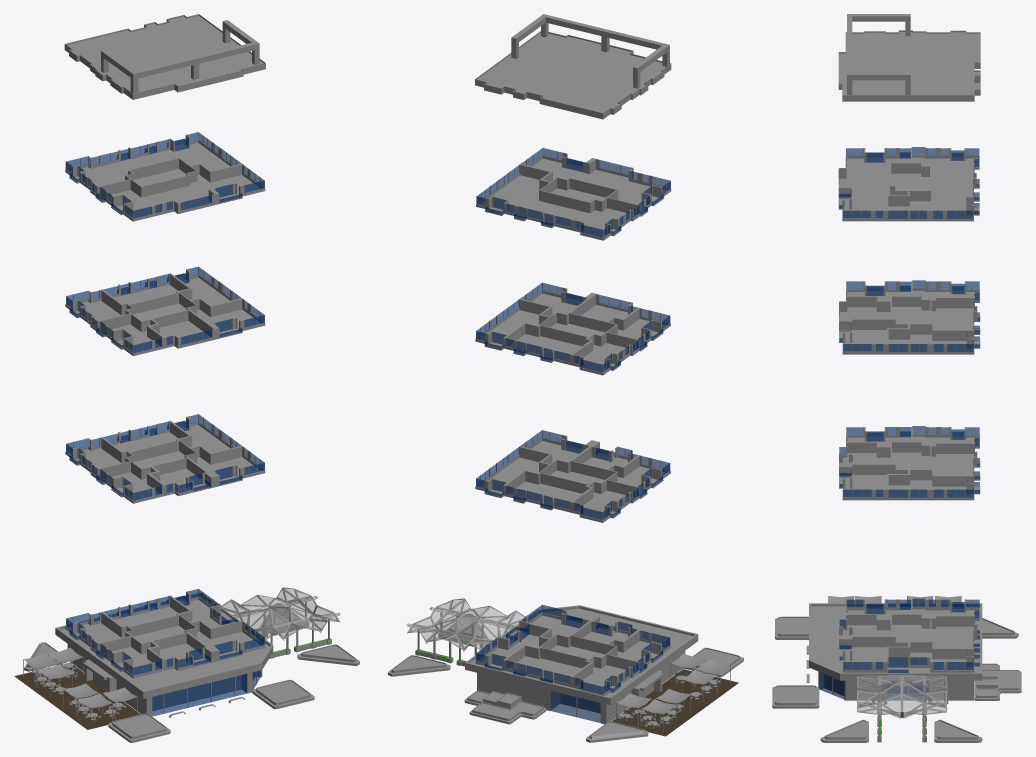
3 renders of one model, left to right at view 1: azimuth 30°, elevation 25°; view 2: azimuth 150°, elevation 25°; view 3: azimuth 270°, elevation 25°, orthographic.
Visible parts, largest first — view 1: ROOF, Lobby, Apt_A_ph, Apt_B_ph, Main_Enter, Grass_box, Wood, Canopy, Apt_A_2_29, Apt_A_30_32, Apt_C_2_29, Apt_C_33_34 (+15 smaller); view 2: ROOF, Lobby, Apt_B_ph, Grass_box, Apt_A_ph, Main_Enter, Wood, Apt_C_33_34, Apt_C_30_32, Apt_C_2_29, Canopy, Apt_D_30_32 (+15 smaller); view 3: ROOF, Lobby, Apt_B_ph, Grass_box, Apt_A_ph, Main_Enter, Apt_B_30_32, Apt_B_33_34, Apt_B_2_29, Apt_A_30_32, Apt_A_2_29, Apt_A_33_34 (+17 smaller).
Part boxes in pixels (left/top/right/bottom): ROOF: left=64, top=14, right=265, bottom=99; Lobby: left=55, top=592, right=273, bottom=716; Apt_A_ph: left=95, top=163, right=265, bottom=221; Apt_B_ph: left=65, top=132, right=241, bottom=196; Main_Enter: left=221, top=587, right=340, bottom=658; Grass_box: left=24, top=602, right=359, bottom=742; Wood: left=14, top=662, right=140, bottom=729; Canopy: left=23, top=647, right=137, bottom=726; Apt_A_2_29: left=184, top=620, right=265, bottom=662; Apt_A_30_32: left=184, top=446, right=265, bottom=487; Apt_C_2_29: left=102, top=595, right=190, bottom=636; Apt_C_33_34: left=102, top=273, right=190, bottom=314; ROOF: left=475, top=14, right=671, bottom=119; Lobby: left=465, top=605, right=698, bottom=724; Apt_B_ph: left=476, top=164, right=640, bottom=240; Grass_box: left=388, top=613, right=743, bottom=742; Apt_A_ph: left=520, top=148, right=671, bottom=216; Main_Enter: left=406, top=598, right=525, bottom=666; Wood: left=612, top=669, right=738, bottom=736; Apt_C_33_34: left=504, top=323, right=591, bottom=365; Apt_C_30_32: left=504, top=470, right=591, bottom=512; Apt_C_2_29: left=504, top=645, right=591, bottom=687; Canopy: left=616, top=653, right=730, bottom=732; Apt_D_30_32: left=571, top=479, right=639, bottom=522; ROOF: left=838, top=14, right=980, bottom=101; Lobby: left=809, top=603, right=982, bottom=704; Apt_B_ph: left=887, top=147, right=979, bottom=221; Grass_box: left=772, top=616, right=1021, bottom=742; Apt_A_ph: left=838, top=148, right=911, bottom=221; Main_Enter: left=857, top=675, right=947, bottom=742; Apt_B_30_32: left=887, top=469, right=980, bottom=500; Apt_B_33_34: left=887, top=324, right=980, bottom=354; Apt_B_2_29: left=887, top=642, right=980, bottom=672; Apt_A_30_32: left=839, top=463, right=909, bottom=500; Apt_A_2_29: left=839, top=635, right=909, bottom=672; Apt_A_33_34: left=839, top=319, right=909, bottom=354.
Size of what is drawn, in the model's own units: 85.22 by 183 by 66.31.
